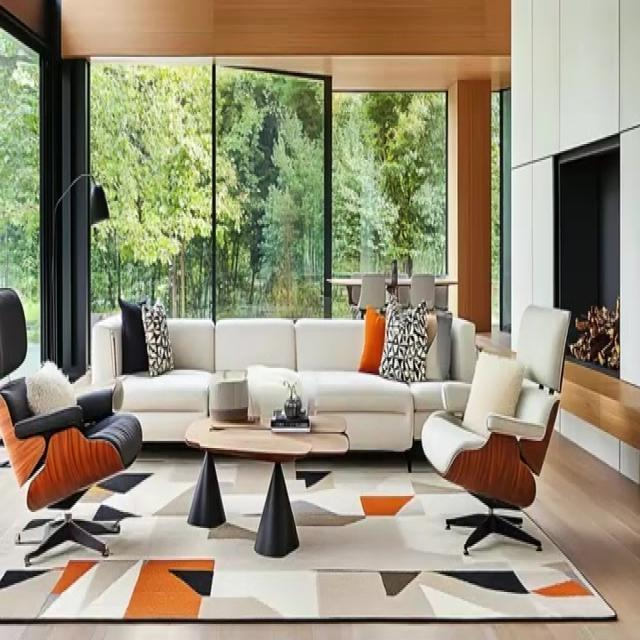obstacle: (90, 310, 477, 470), (0, 286, 142, 564), (420, 302, 572, 555), (184, 411, 349, 556)
